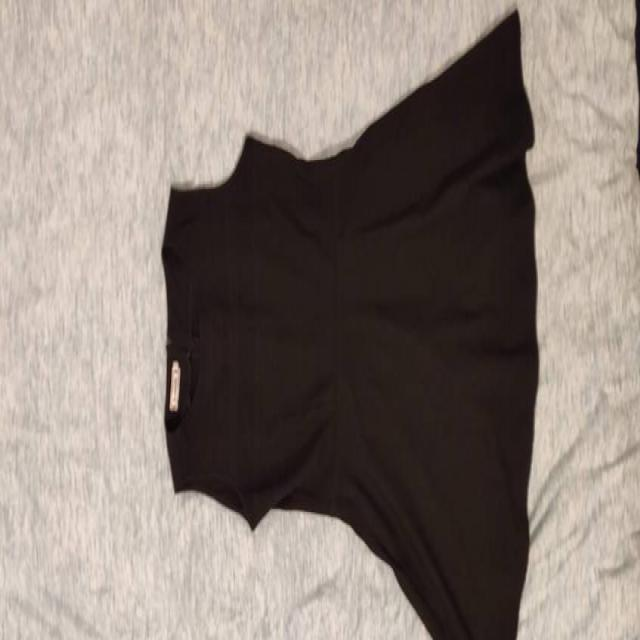Clothes -Biodegradable-: (163, 3, 537, 640)
